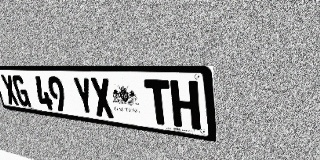4: (32, 76, 54, 110)
9: (46, 76, 69, 112)
G: (11, 75, 31, 107)
H: (170, 80, 201, 130)
T: (144, 79, 173, 126)
X: (89, 77, 115, 118), (0, 75, 20, 106)
Y: (72, 77, 96, 116)
